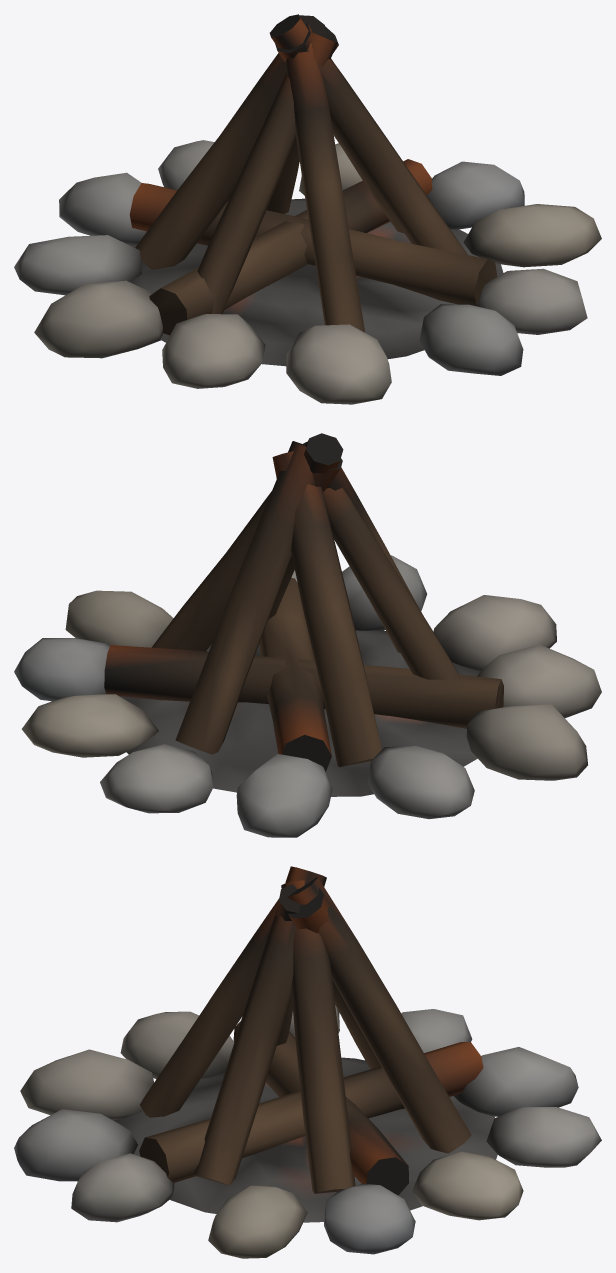
Rendered from SM_Bonfire.fbx.
3 views of the same model, one above another, from view 1: azimuth 30°, elevation 25°; view 2: azimuth 150°, elevation 25°; view 3: azimuth 270°, elevation 25° (orthographic). The views are drawn at different scales.
Parts seen in each view (by area): view 1: SM_Bonfire; view 2: SM_Bonfire; view 3: SM_Bonfire.
Part boxes in pixels (x1=…): SM_Bonfire: x1=14, y1=14, x2=601, y2=404; SM_Bonfire: x1=14, y1=433, x2=601, y2=837; SM_Bonfire: x1=14, y1=866, x2=601, y2=1258.
Size of what is drawn, in the model's own units: 1.57 by 0.8116 by 1.54.
